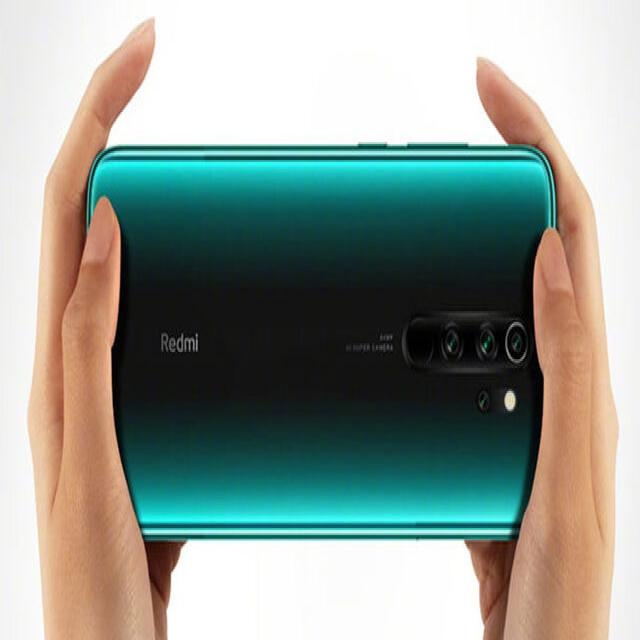Red Mi Note 8 Pro: (83, 133, 558, 551)
